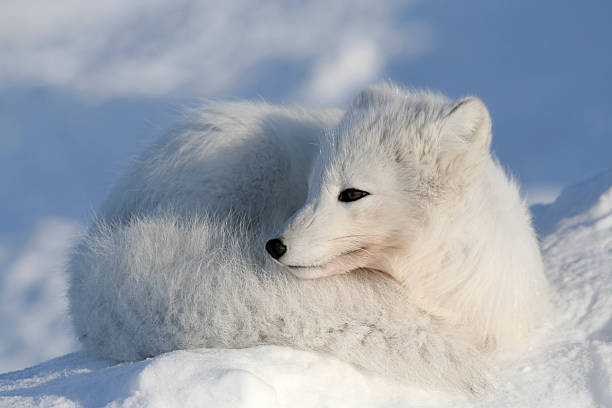arcticfox: (231, 118, 427, 296)
